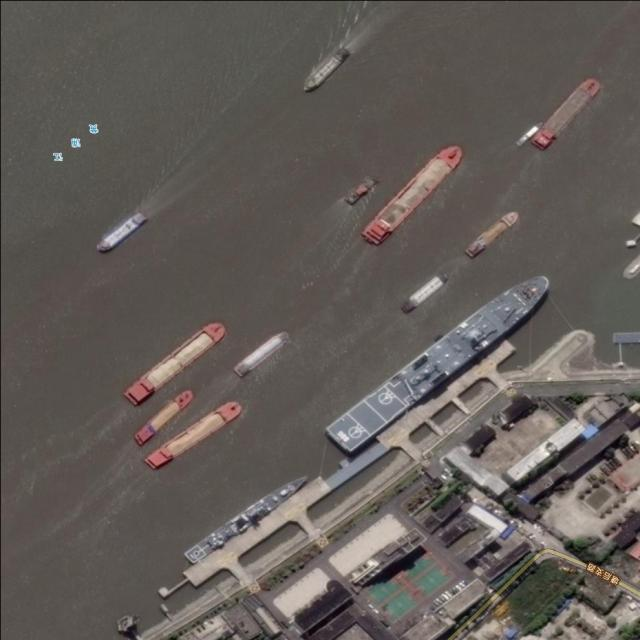Cargo: (357, 139, 470, 250), (122, 315, 230, 409), (144, 394, 246, 476), (529, 73, 604, 153), (129, 387, 198, 447), (460, 206, 522, 262), (232, 328, 291, 381), (92, 206, 152, 258), (298, 43, 353, 97), (400, 268, 452, 315), (341, 175, 377, 208)
Frigate: (183, 469, 312, 566)
Landing: (322, 263, 557, 458)
Other Ship: (515, 120, 544, 148)
